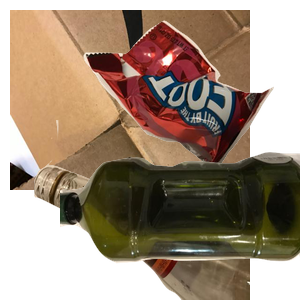cardboard: (10, 10, 250, 190)
glass: (31, 120, 271, 300)
plastic: (60, 149, 300, 300)
trash: (81, 18, 300, 182)
